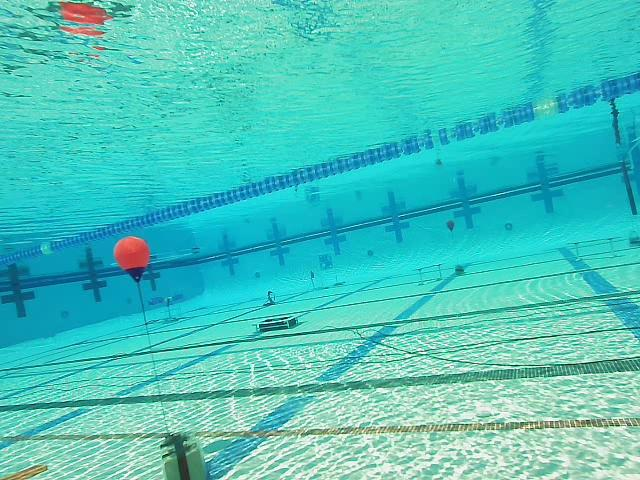buoy: (114, 236, 150, 284)
dropper: (251, 314, 303, 334)
table: (147, 291, 184, 323)
torpedo: (316, 251, 334, 275)
